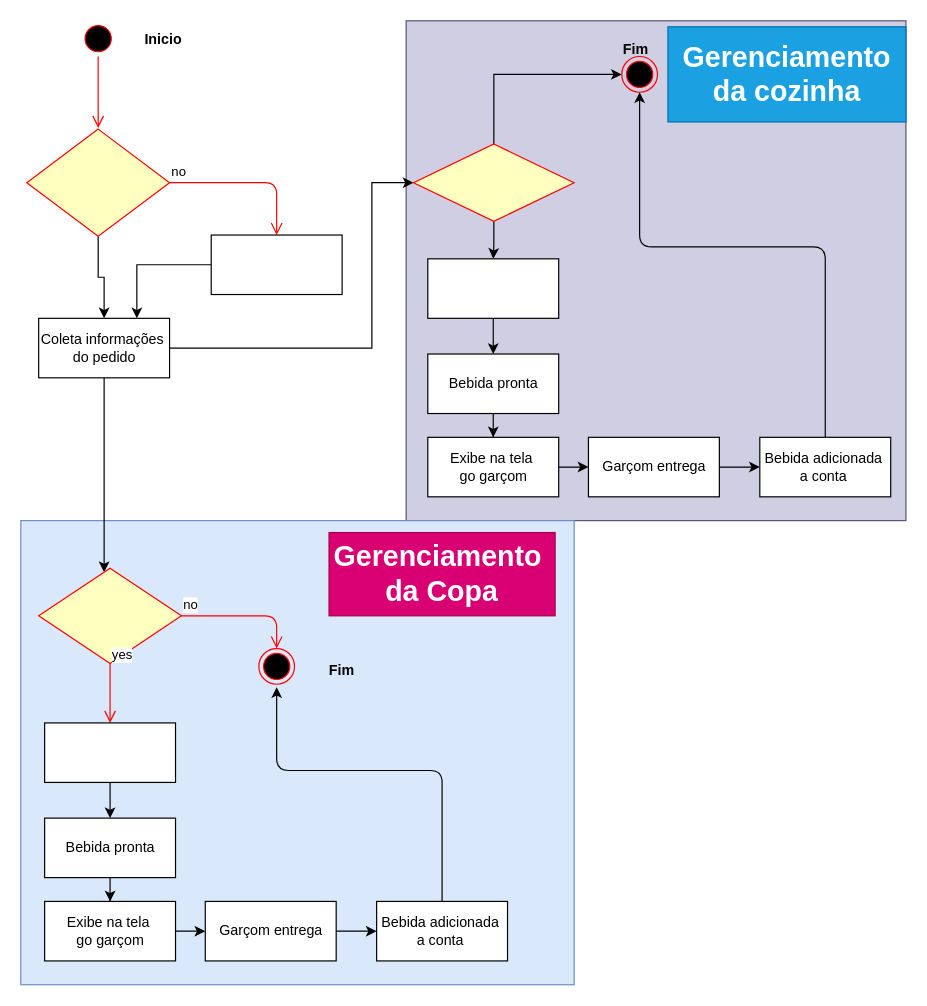
The diagram is 927 pixels wide and 1006 high, and some of its shapes have lost their labels. The centre of each missing label's shape, as x and y in pixels:
"Cadastra as informações do pedido ?" belongs at (276,264).
"Cliente tem cadastro ?" belongs at (98,182).
"Exibe na tela da copa" belongs at (109,752).
"Exibe na tela da cozinha" belongs at (493,288).
"Tem bebida ?" belongs at (109,615).
"Tem comida ?" belongs at (493,182).
